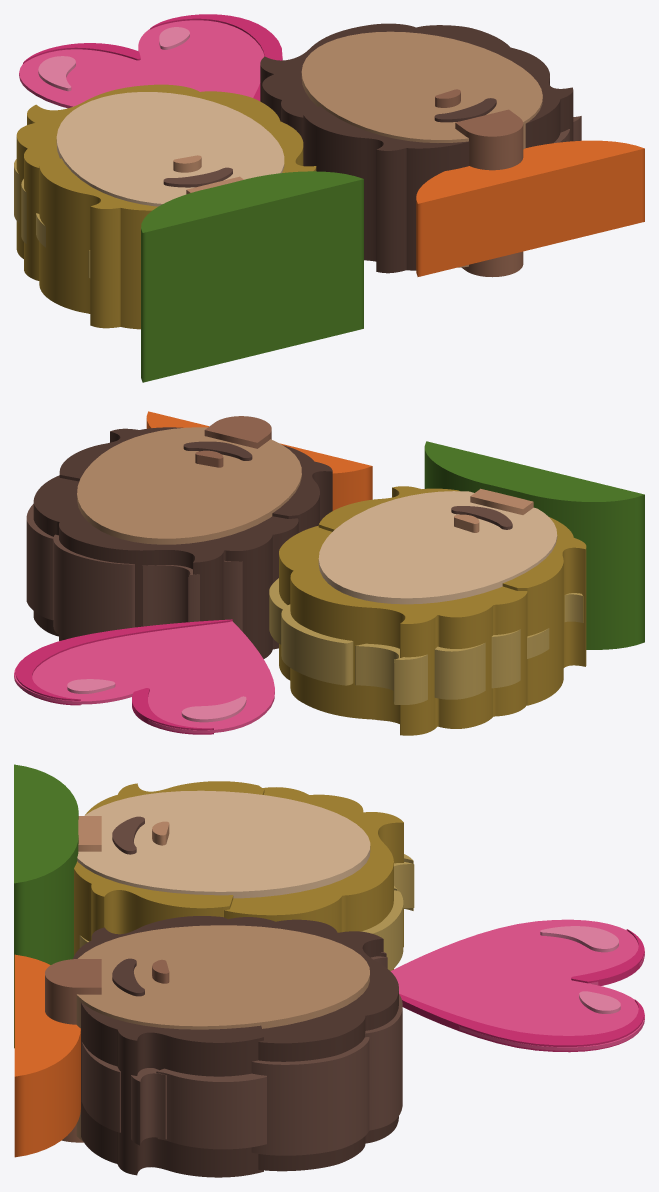
The model's file is emoji_u1f9d1_1f3fc_200d_2764_200d_1f9d1_1f3fd.glb.
The picture shows the model from 3 angles, top to bottom: view 1: azimuth 30°, elevation 25°; view 2: azimuth 150°, elevation 25°; view 3: azimuth 270°, elevation 25°; orthographic projection. The views are drawn at different scales.
Visible parts, largest first — view 1: emoji_u1f9d1_1f3fc_200d_2764_200d_1f9d1_1f3fd; view 2: emoji_u1f9d1_1f3fc_200d_2764_200d_1f9d1_1f3fd; view 3: emoji_u1f9d1_1f3fc_200d_2764_200d_1f9d1_1f3fd.
Boxes of the visible parts, bbox=[...] form: emoji_u1f9d1_1f3fc_200d_2764_200d_1f9d1_1f3fd: bbox=[14, 14, 644, 382]; emoji_u1f9d1_1f3fc_200d_2764_200d_1f9d1_1f3fd: bbox=[14, 411, 644, 735]; emoji_u1f9d1_1f3fc_200d_2764_200d_1f9d1_1f3fd: bbox=[14, 764, 644, 1177].
Bounding box in the file's own units: 0.0345 × 0.0098 × 0.034.
